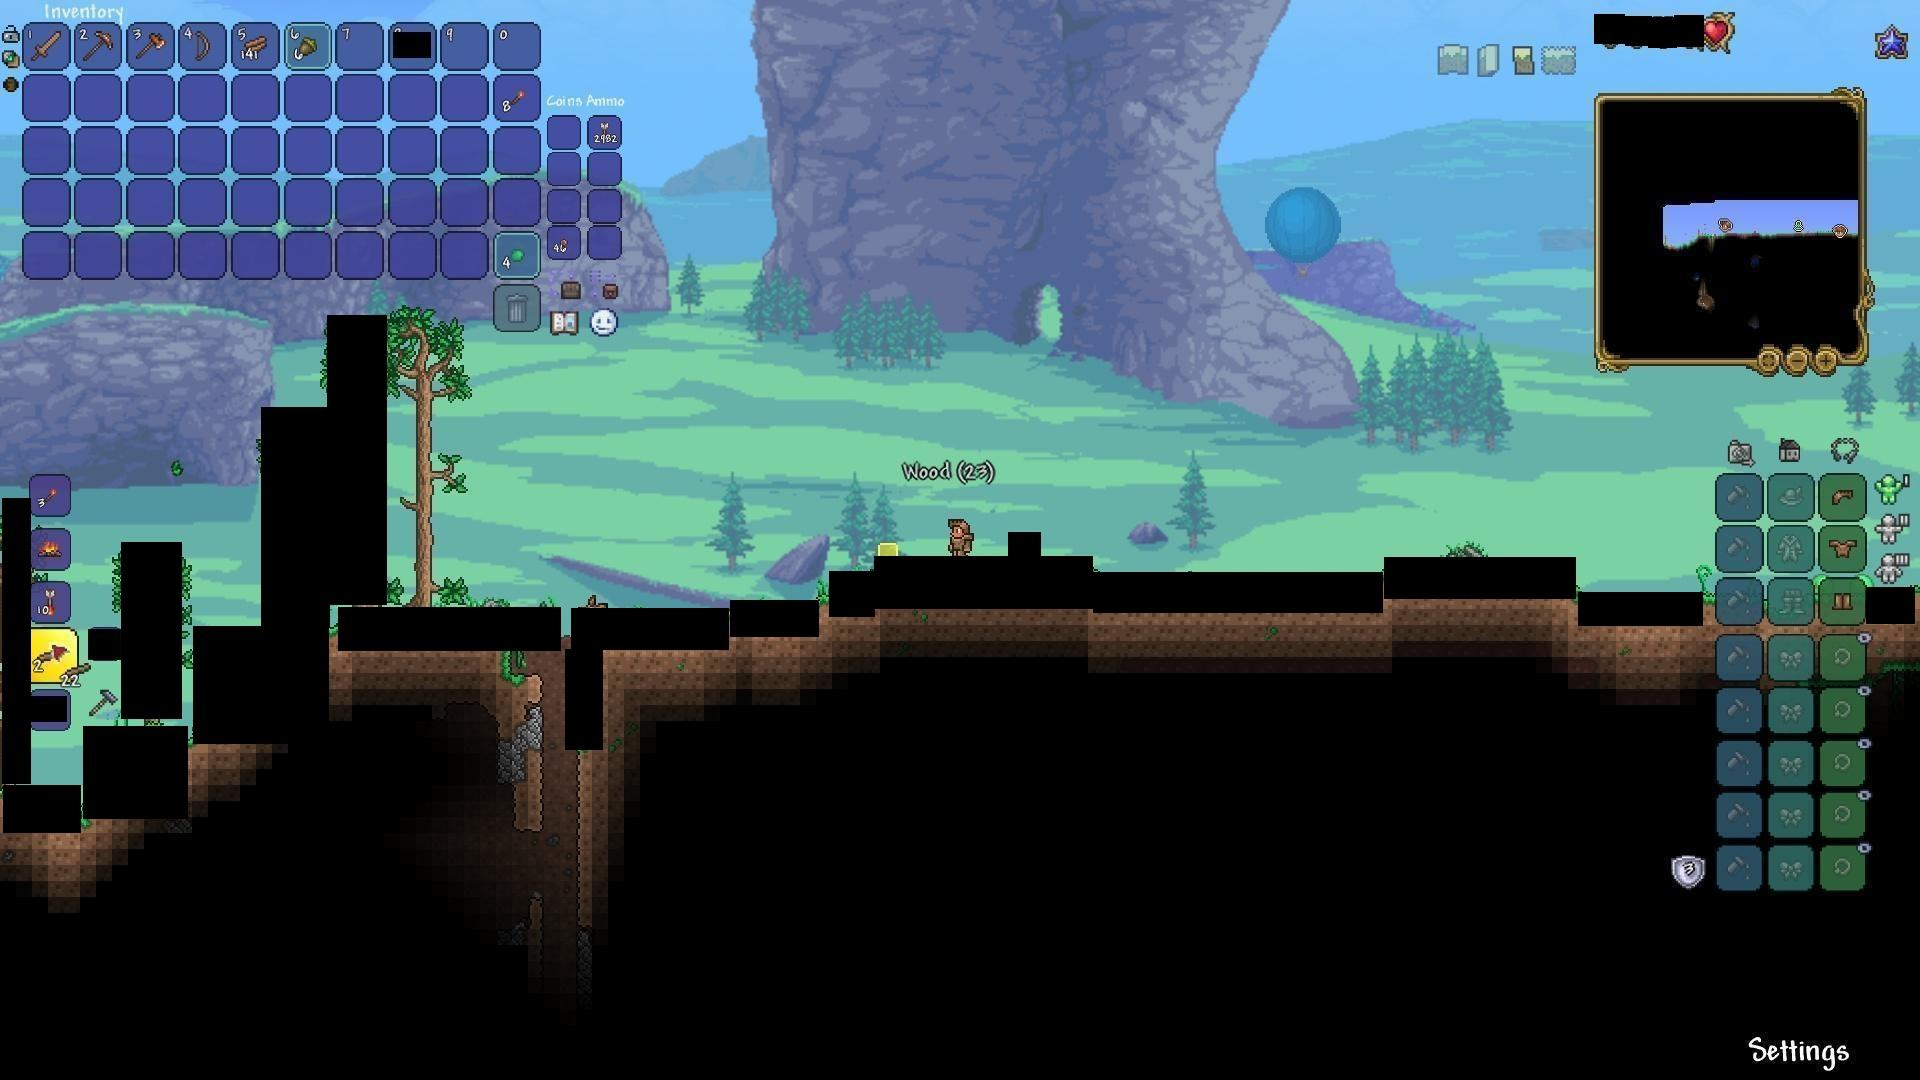breastplate: (1830, 537, 1859, 558)
heart: (1704, 17, 1731, 47)
helmet: (1828, 485, 1857, 510)
legs: (1832, 585, 1855, 615)
tree: (393, 313, 462, 601)
wood: (243, 33, 270, 59)
